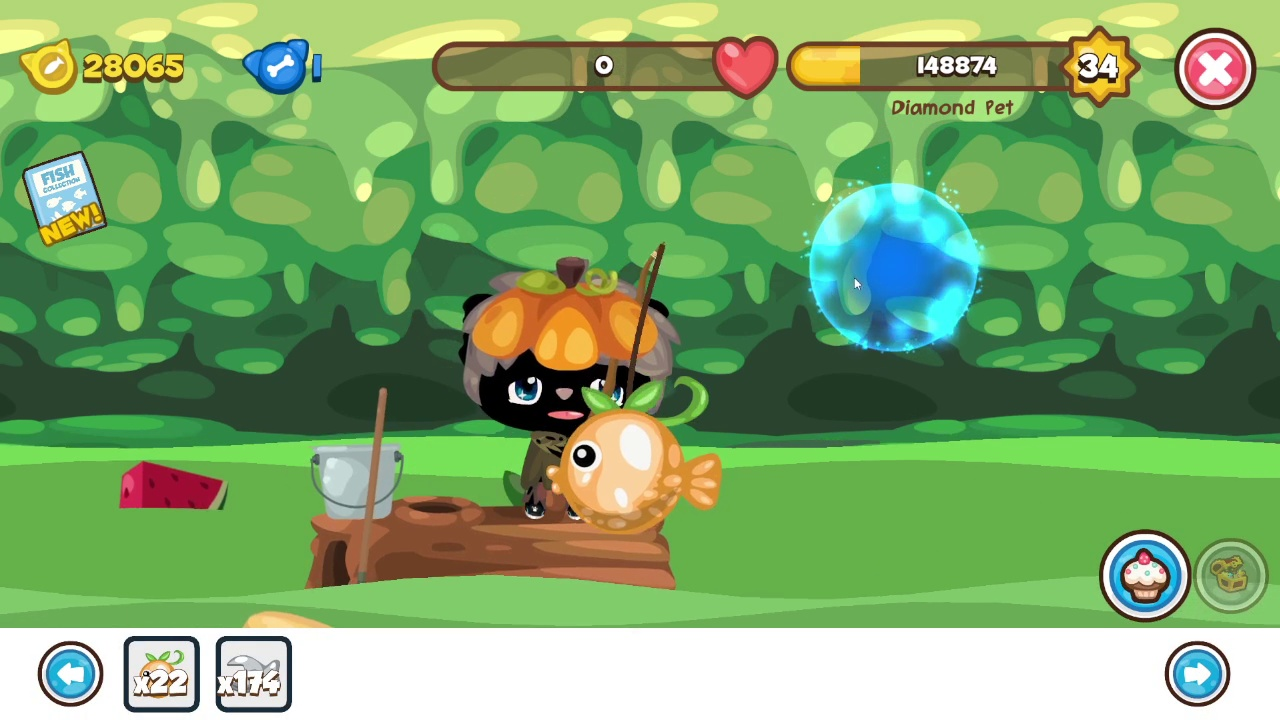point: (803, 179, 983, 361)
